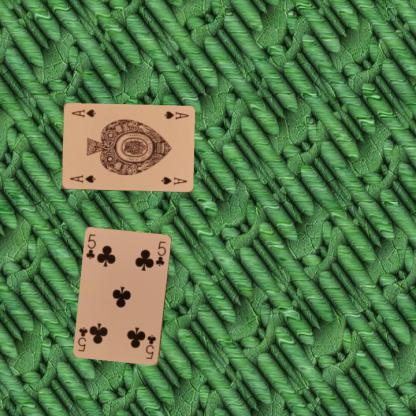5c: (143, 332, 157, 361), (84, 232, 97, 260)
As: (161, 109, 190, 121), (67, 173, 96, 184)
